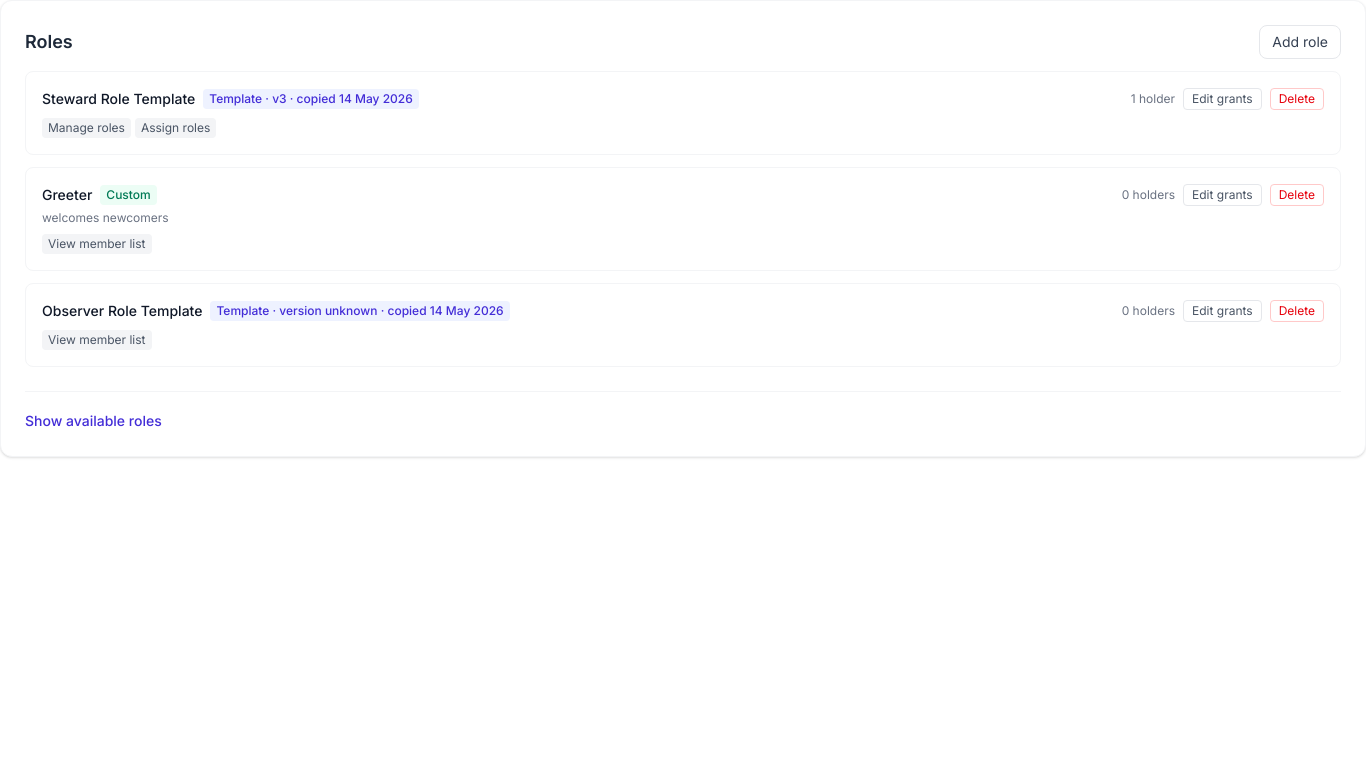
Test: FEAT-H014 — RolesPanel (STORY-1/2) › the removal ceremony names the role and states it does not affect the source template
This screenshot has width=1366, height=768.
Click the button with test id "delete-role-button" in the row of "Observer Role Template" at coordinates (1297, 311), box [1270, 300, 1324, 322]
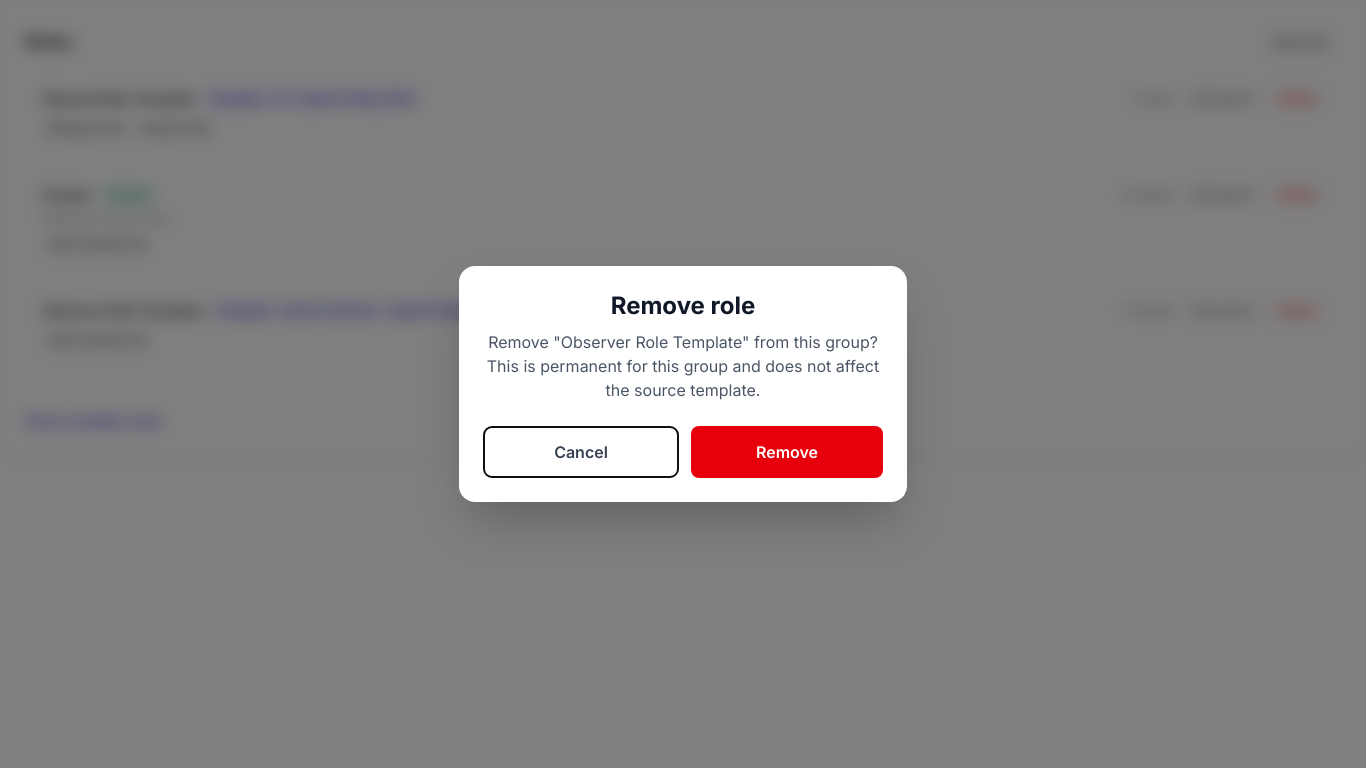
expect the dialog with test id "confirm-modal" shows "Observer Role Template": met, box [487, 332, 879, 400]
expect the dialog with test id "confirm-modal" shows "does not affect the source template": met, box [487, 332, 879, 400]
